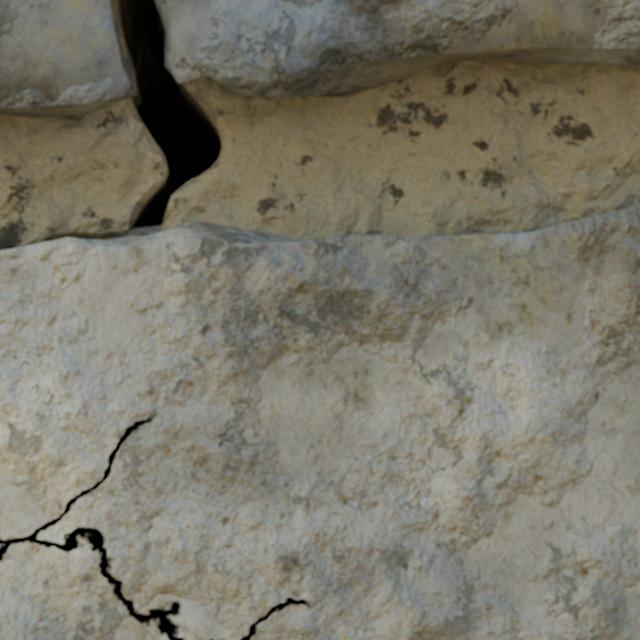broken_brick: (166, 0, 639, 98), (0, 0, 135, 117)
crack: (0, 0, 639, 639), (486, 33, 625, 39)
